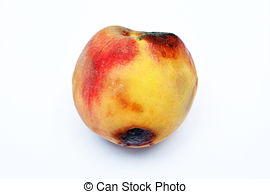damaged_peach: (72, 26, 193, 151)
